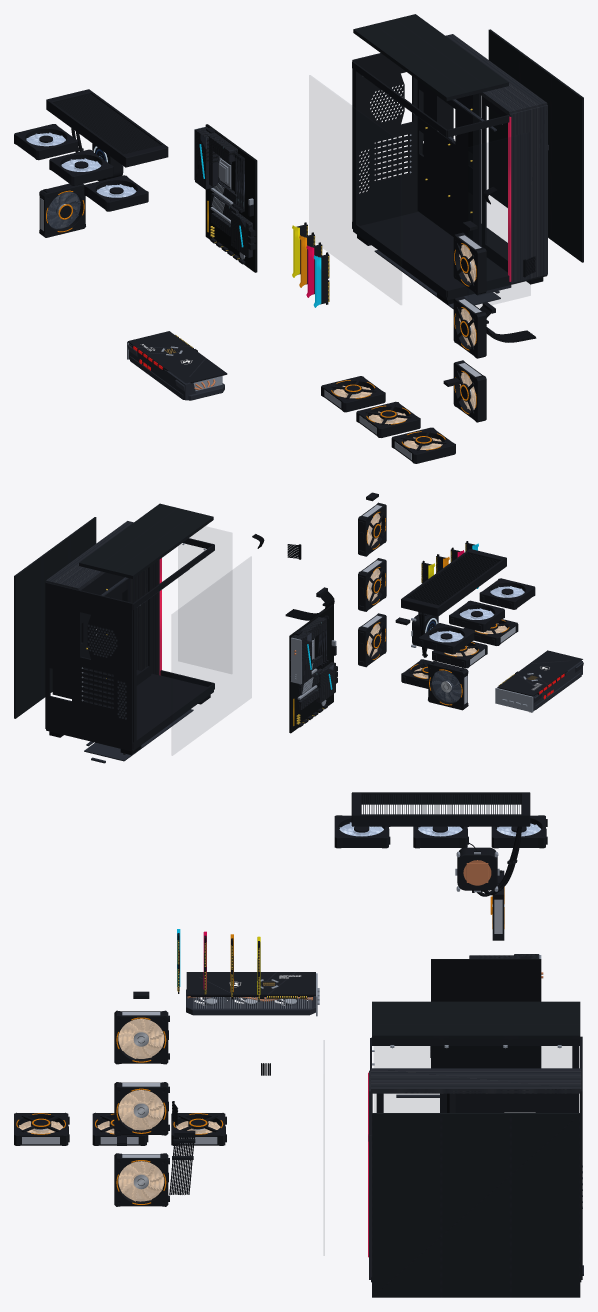
Rendered from LianLi_O11_EVO_Separated.glb.
3 renders of one model, top to bottom at view 1: azimuth 30°, elevation 25°; view 2: azimuth 150°, elevation 25°; view 3: azimuth 270°, elevation 25°, orthographic. The views are drawn at different scales.
Visible parts, largest first — view 1: Case_Main_Steel_Body_And_DualChamber, Case_Right_Mesh_Panel, Case_Front_And_Top_Brushed_Aluminum, Case_Top_Perforated_Mesh_Panel, AIO_Radiator_360mm_With_Fins, MB_AORUS_Heatsinks_And_M2_Armor, Case_Glass_Bezels, GPU_Backplate_Surface, MB_PCB, GPU_Sculpted_Shroud_And_SupportBracket, AIO_Fan_3_Frame, AIO_Fan_2_Frame (+13 smaller); view 2: Case_Main_Steel_Body_And_DualChamber, Case_Right_Mesh_Panel, Case_Top_Perforated_Mesh_Panel, AIO_Radiator_360mm_With_Fins, Case_Front_And_Top_Brushed_Aluminum, Case_Glass_Bezels, MB_AORUS_Heatsinks_And_M2_Armor, GPU_Backplate_Surface, MB_PCB, AIO_Fan_3_Frame, AIO_Fan_1_Frame, Case_Slotted_Mounting_Rails_And_DustFilter (+13 smaller); view 3: Case_Right_Mesh_Panel, Case_Top_Perforated_Mesh_Panel, MB_PCB, Case_Front_And_Top_Brushed_Aluminum, AIO_Radiator_360mm_With_Fins, Case_Main_Steel_Body_And_DualChamber, GPU_Backplate_Surface, Case_Glass_Bezels, GPU_Sculpted_Shroud_And_SupportBracket, Side_Fan_1_Frame, Side_Fan_3_Frame, Side_Fan_2_Frame (+12 smaller).
Part boxes in pixels (x1=…): Case_Main_Steel_Body_And_DualChamber: x1=352, y1=53, x2=547, y2=300; Case_Right_Mesh_Panel: x1=488, y1=29, x2=583, y2=262; Case_Front_And_Top_Brushed_Aluminum: x1=445, y1=34, x2=548, y2=283; Case_Top_Perforated_Mesh_Panel: x1=353, y1=14, x2=508, y2=100; AIO_Radiator_360mm_With_Fins: x1=46, y1=89, x2=168, y2=167; MB_AORUS_Heatsinks_And_M2_Armor: x1=195, y1=126, x2=252, y2=257; Case_Glass_Bezels: x1=352, y1=61, x2=509, y2=297; GPU_Backplate_Surface: x1=128, y1=331, x2=226, y2=383; MB_PCB: x1=205, y1=124, x2=257, y2=272; GPU_Sculpted_Shroud_And_SupportBracket: x1=127, y1=343, x2=224, y2=400; AIO_Fan_3_Frame: x1=84, y1=175, x2=148, y2=211; AIO_Fan_2_Frame: x1=49, y1=149, x2=113, y2=185; Case_Main_Steel_Body_And_DualChamber: x1=45, y1=565, x2=213, y2=751; Case_Right_Mesh_Panel: x1=14, y1=517, x2=96, y2=718; Case_Top_Perforated_Mesh_Panel: x1=79, y1=503, x2=213, y2=578; AIO_Radiator_360mm_With_Fins: x1=401, y1=549, x2=506, y2=616; Case_Front_And_Top_Brushed_Aluminum: x1=46, y1=521, x2=159, y2=675; Case_Glass_Bezels: x1=132, y1=538, x2=214, y2=748; MB_AORUS_Heatsinks_And_M2_Armor: x1=292, y1=617, x2=335, y2=709; GPU_Backplate_Surface: x1=498, y1=650, x2=582, y2=695; MB_PCB: x1=289, y1=604, x2=333, y2=733; AIO_Fan_3_Frame: x1=479, y1=578, x2=535, y2=609; AIO_Fan_1_Frame: x1=418, y1=623, x2=474, y2=654; Case_Slotted_Mounting_Rails_And_DustFilter: x1=84, y1=569, x2=193, y2=763; Case_Right_Mesh_Panel: x1=372, y1=1113, x2=580, y2=1297; Case_Top_Perforated_Mesh_Panel: x1=372, y1=1001, x2=580, y2=1039; MB_PCB: x1=431, y1=959, x2=541, y2=1068; Case_Front_And_Top_Brushed_Aluminum: x1=368, y1=1068, x2=581, y2=1279; AIO_Radiator_360mm_With_Fins: x1=351, y1=792, x2=530, y2=826; Case_Main_Steel_Body_And_DualChamber: x1=371, y1=1036, x2=582, y2=1282; GPU_Backplate_Surface: x1=186, y1=972, x2=315, y2=994; Case_Glass_Bezels: x1=370, y1=1037, x2=579, y2=1070; GPU_Sculpted_Shroud_And_SupportBracket: x1=186, y1=989, x2=315, y2=1015; Side_Fan_1_Frame: x1=114, y1=1010, x2=169, y2=1064; Side_Fan_3_Frame: x1=114, y1=1153, x2=169, y2=1206; Side_Fan_2_Frame: x1=114, y1=1082, x2=169, y2=1135.
Size of the model in its own units: 14.04 by 6.79 by 12.6.
54 materials, 44 textured.
